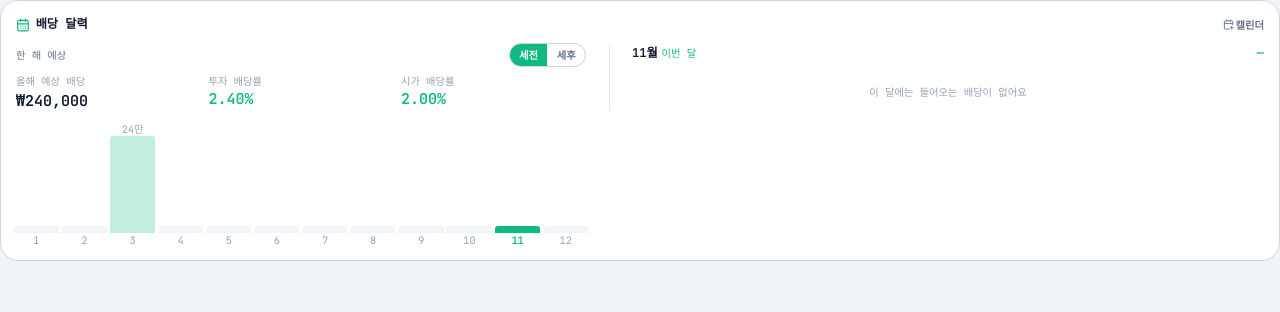
세전 · 세후 토글 › 원화·달러를 같이 가진 사람은 세율도 섞여야 한다 — 화면 합계가 어느 종목과도 안 맞으면 안 된다
Check: the text "올해 예상 배당" is shown, box [16, 74, 85, 88]
Check: the text "₩240,000" is shown, box [16, 91, 88, 111]
Click the button "세후" at x=566, y=55, box [547, 44, 585, 66]
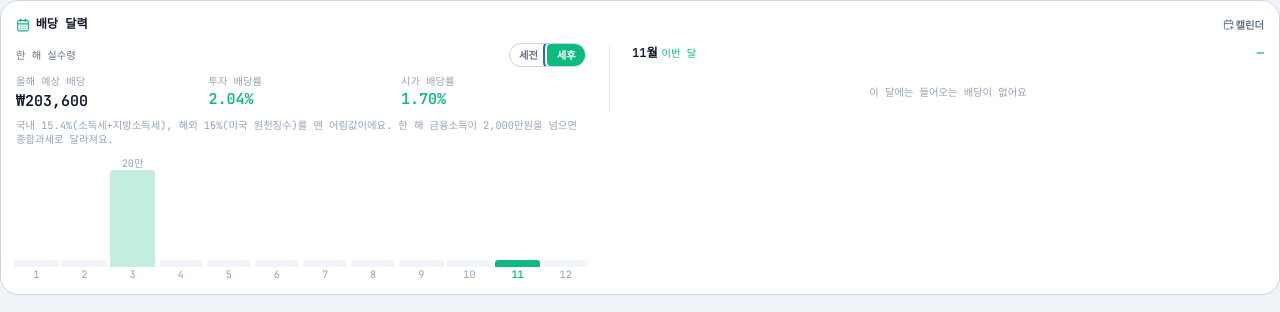
Check: the text "₩203,600" is shown, box [16, 91, 88, 111]
